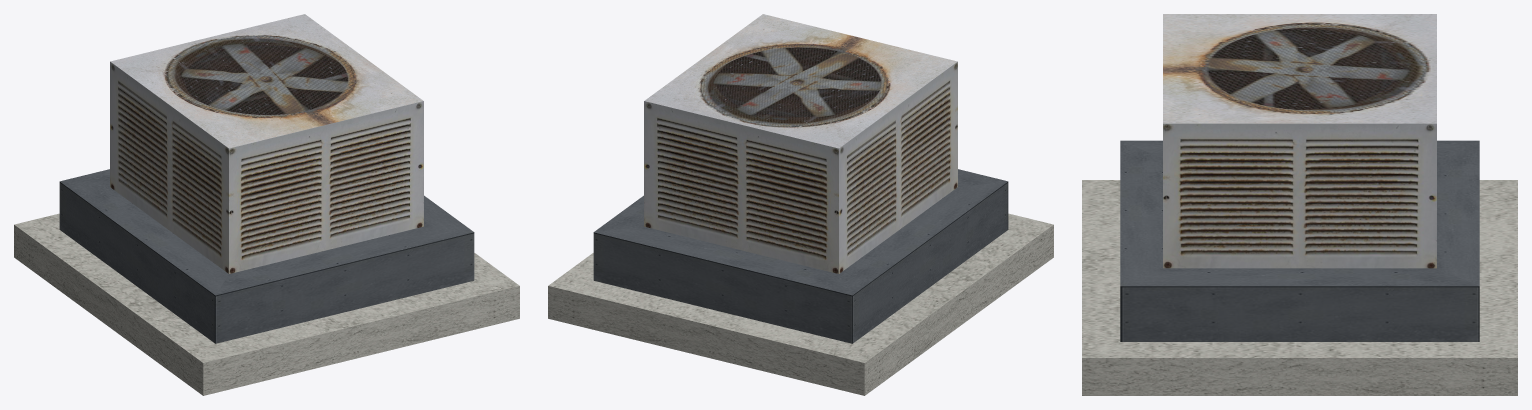
Rendered from roof addon10.FBX.
3 renders of one model, left to right at view 1: azimuth 30°, elevation 25°; view 2: azimuth 150°, elevation 25°; view 3: azimuth 270°, elevation 25°, orthographic. The views are drawn at different scales.
Visible parts, largest first — view 1: roof addon10; view 2: roof addon10; view 3: roof addon10.
Boxes of the visible parts, x1,y1,x2,y2 form: roof addon10: (14,14,519,395); roof addon10: (548,14,1053,395); roof addon10: (1082,14,1517,395).
Size of the model in its own units: 9.87 by 6.16 by 10.22.
